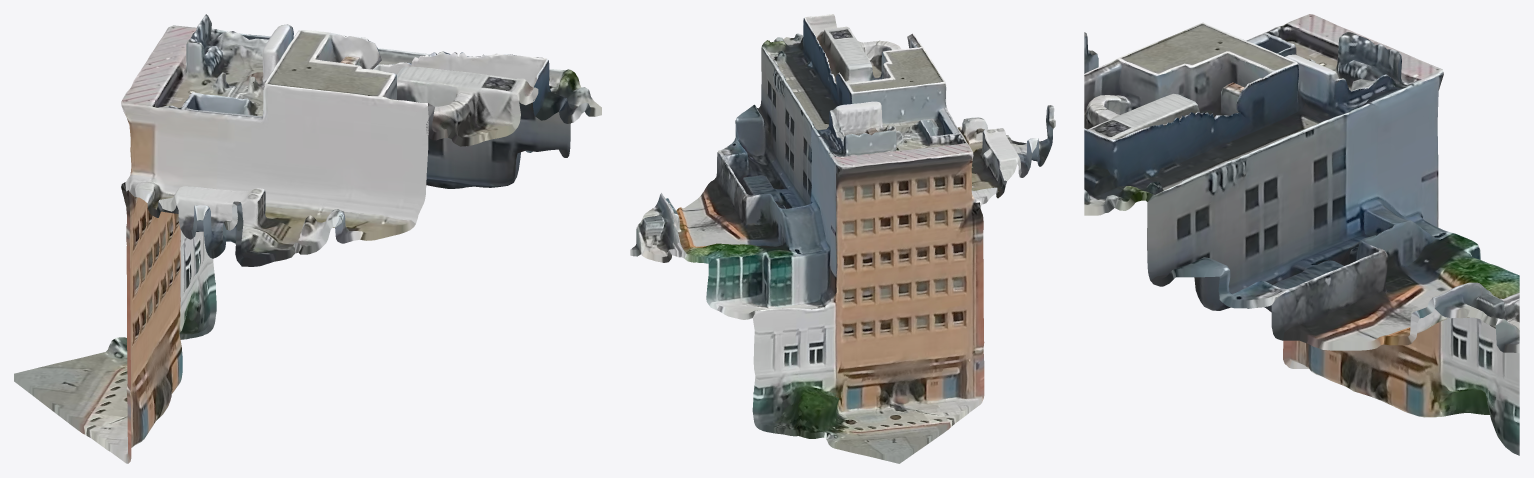
Rendered from z20-167793-405229-h0-yup-uvflip-v3-world.glb.
3 views of the same model, side by side, from view 1: azimuth 30°, elevation 25°; view 2: azimuth 150°, elevation 25°; view 3: azimuth 270°, elevation 25° (orthographic). The views are drawn at different scales.
Size of the model in its own units: 30.16 by 30.44 by 30.32.
1 material, 1 textured.
